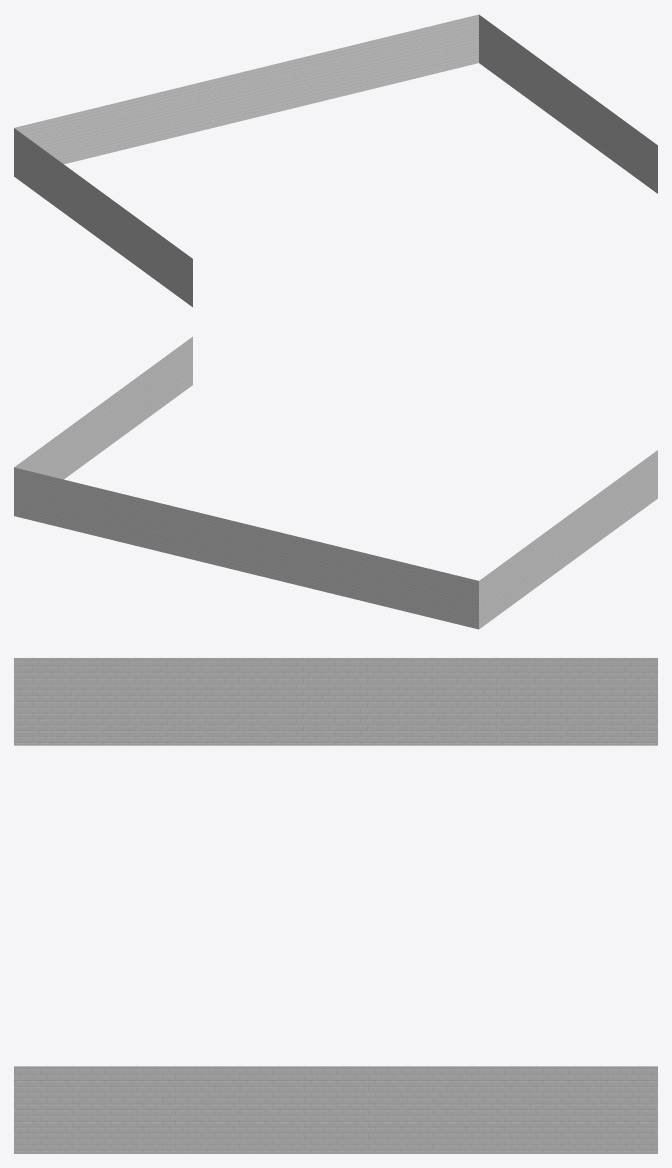
Rendered from mur.FBX.
The picture shows the model from 3 angles, top to bottom: view 1: azimuth 30°, elevation 25°; view 2: azimuth 150°, elevation 25°; view 3: azimuth 270°, elevation 25°; orthographic projection. The views are drawn at different scales.
Visible parts, largest first — view 1: murs; view 2: murs; view 3: murs.
Boxes of the visible parts, x1,y1,x2,y2 form: murs: [14, 14, 657, 307]; murs: [14, 336, 657, 629]; murs: [14, 658, 657, 1153].
Size of the model in its own units: 6000 by 4000 by 600.
Materials: 1 (1 with a texture image).
